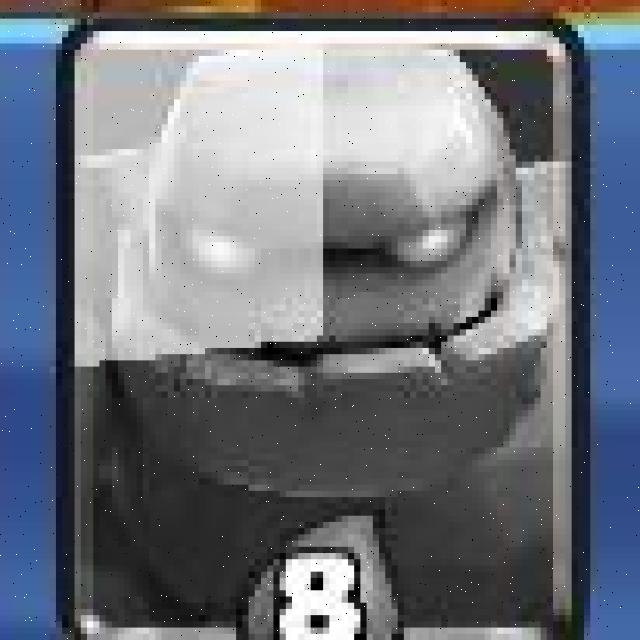Golem: (66, 21, 582, 640)
